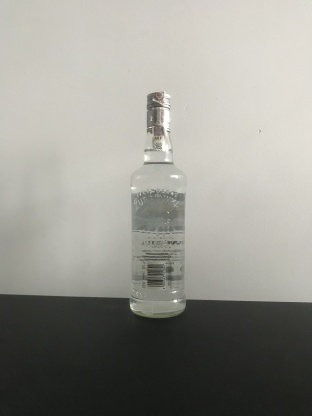nakretka: (145, 88, 172, 134)
